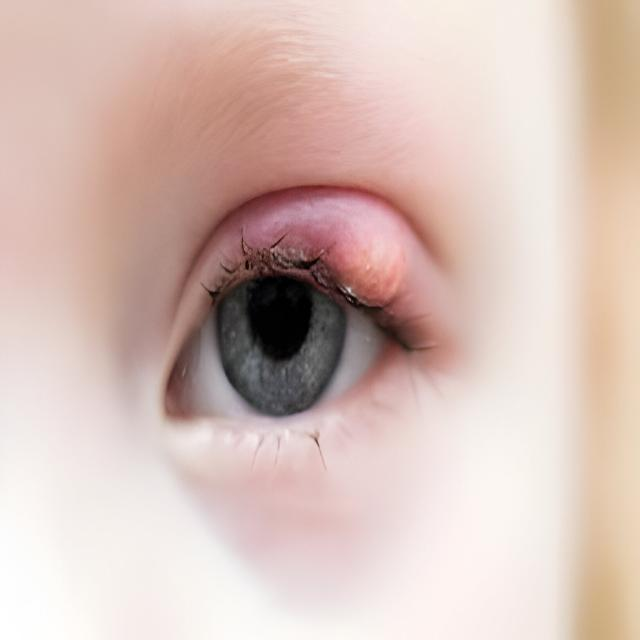Stye: (268, 185, 470, 353)
